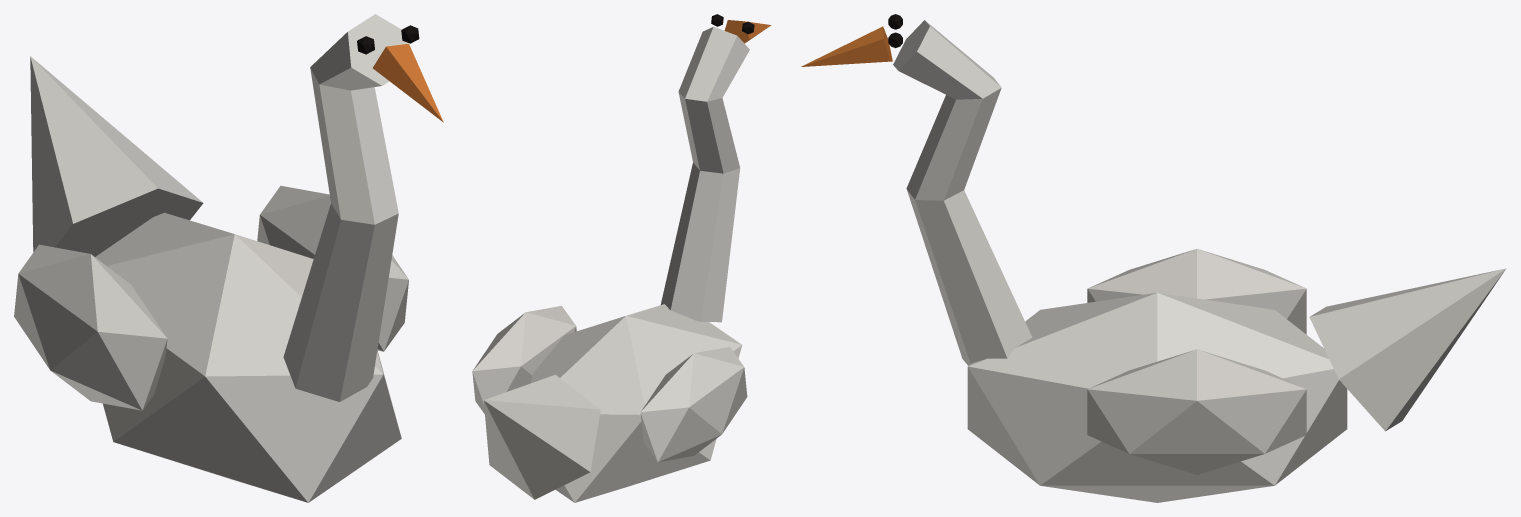
The model's file is animal_swan.glb.
The picture shows the model from 3 angles, left to right: view 1: azimuth 30°, elevation 25°; view 2: azimuth 150°, elevation 25°; view 3: azimuth 270°, elevation 25°; orthographic projection. The views are drawn at different scales.
Parts seen in each view (by area): view 1: animal_swan; view 2: animal_swan; view 3: animal_swan.
Boxes of the visible parts, <box> form: animal_swan: <box>14,14,443,502</box>; animal_swan: <box>472,14,771,502</box>; animal_swan: <box>801,14,1506,502</box>.
Size of the model in its own units: 0.8012 by 1.33 by 1.78.
